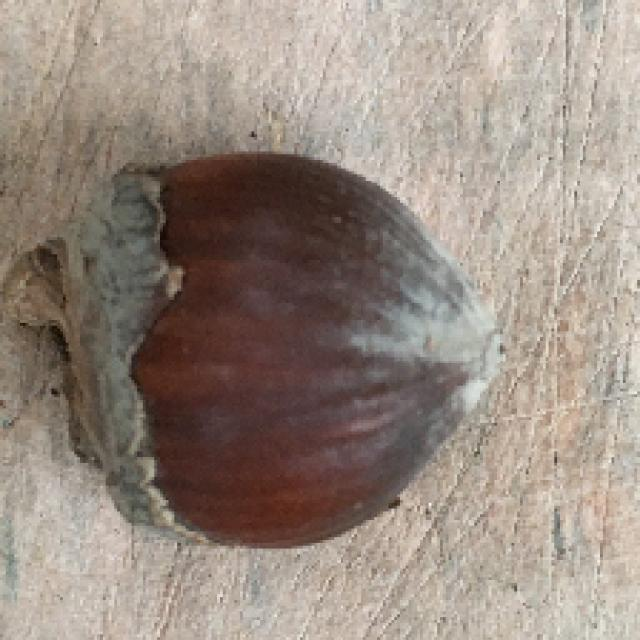damagedHazelnut: (0, 154, 519, 553)
